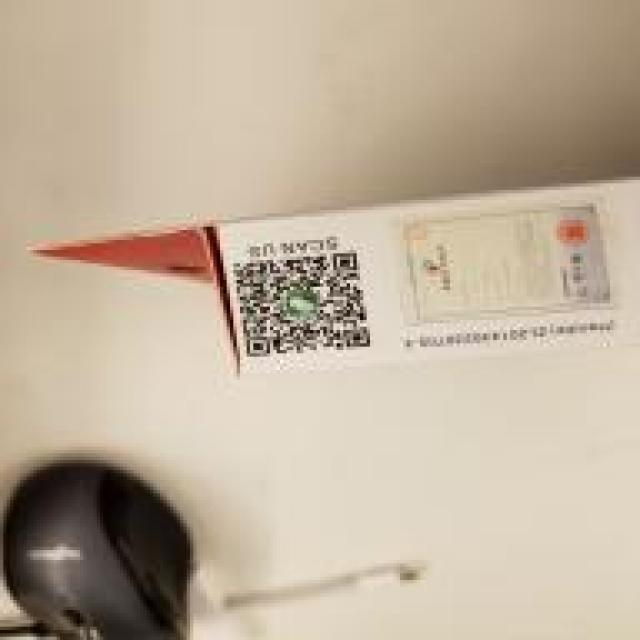QR_CODE: (203, 230, 380, 363)
